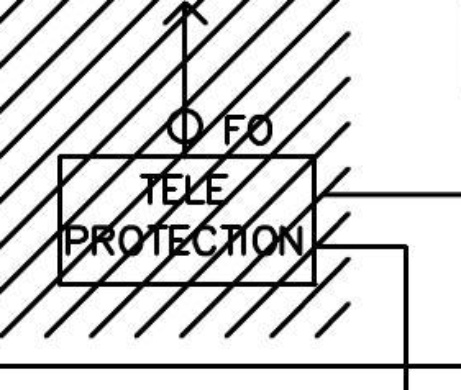tele_protection: (53, 151, 321, 292)
